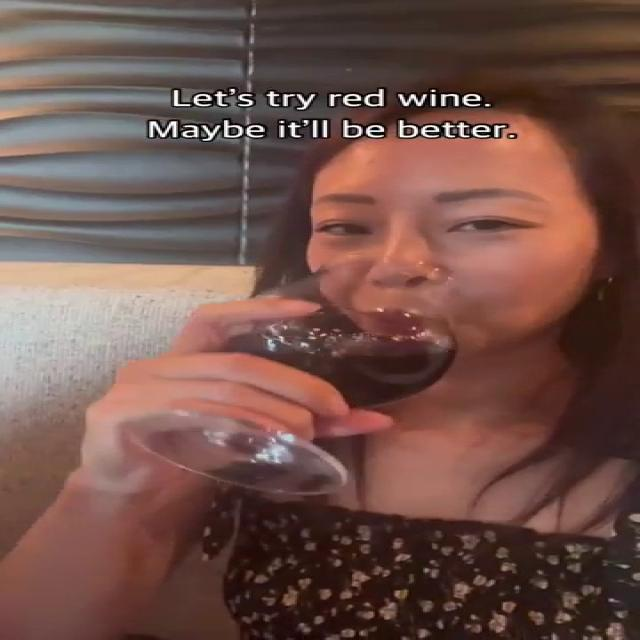Cup: (126, 258, 464, 495)
Hand: (83, 292, 404, 502)
Mouth: (345, 308, 464, 338)
